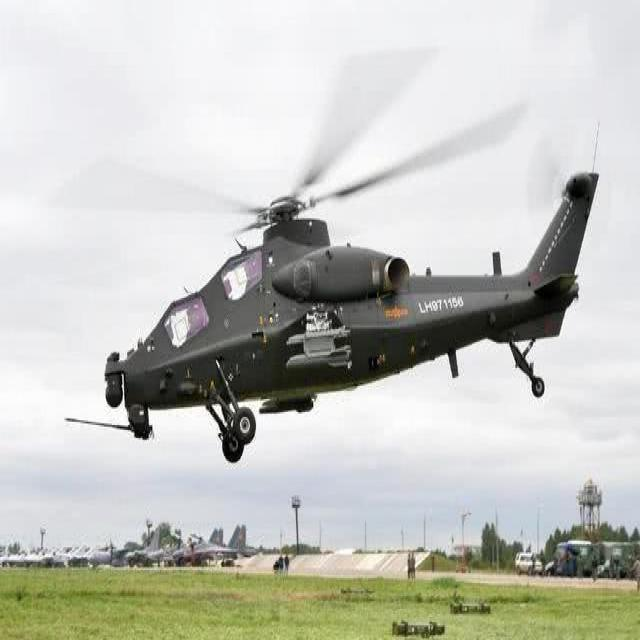MIL_HELO: (60, 54, 617, 479)
